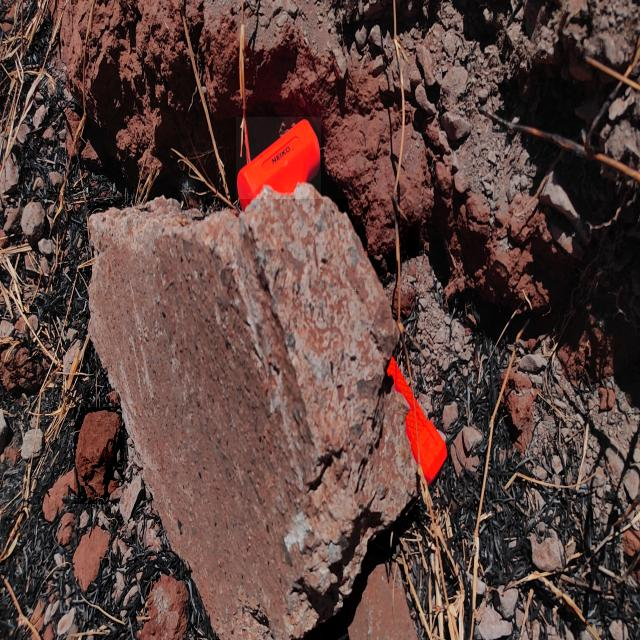Orange_hammer: (236, 117, 321, 212)
rock: (85, 199, 419, 640), (74, 407, 124, 504)
